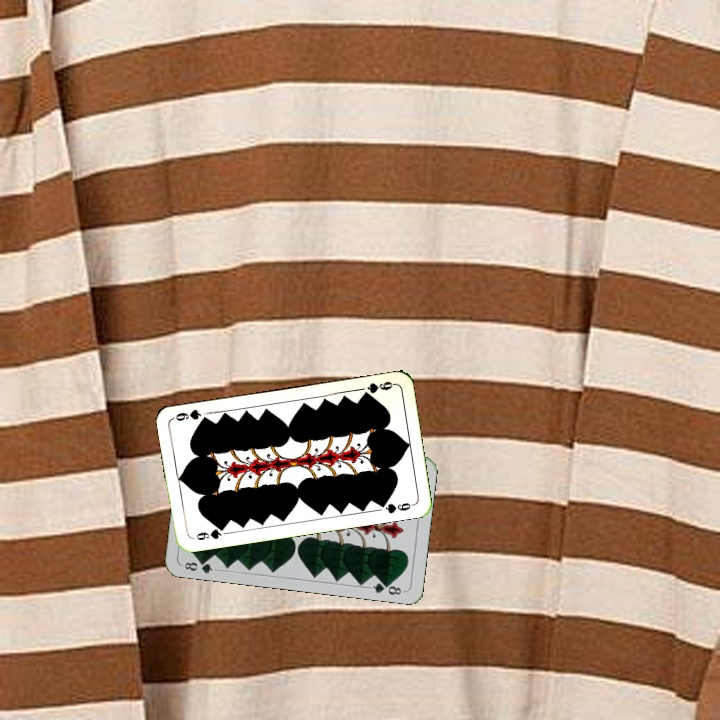G8: (180, 555, 219, 576)
G9: (358, 377, 397, 399), (189, 523, 228, 543)
